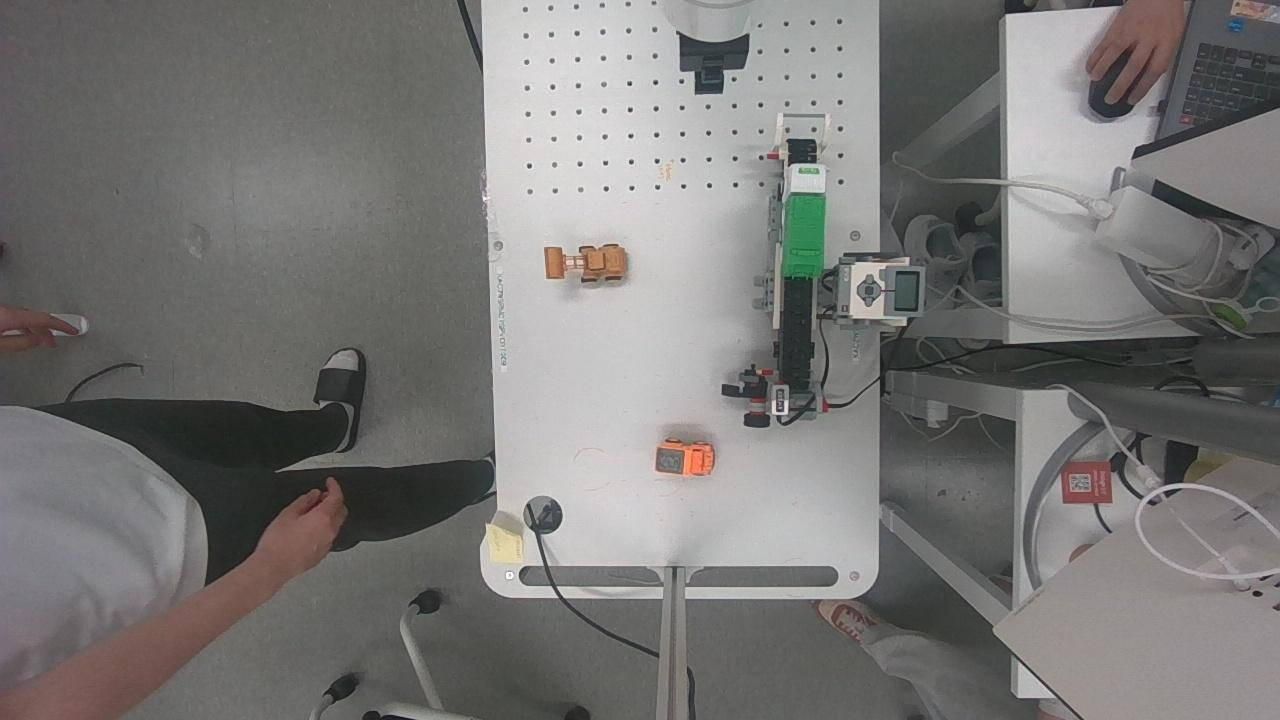green_car: (774, 158, 833, 285)
orange_car: (654, 432, 721, 483)
yellow_car: (540, 236, 632, 294)
